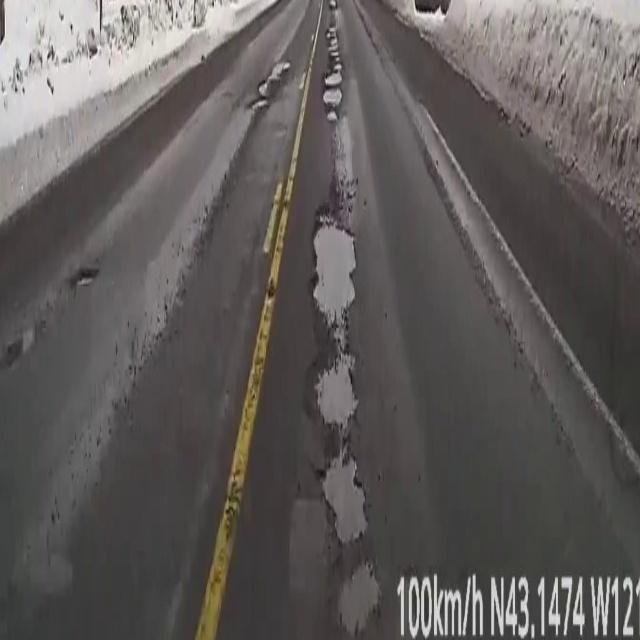pothole: (312, 321, 380, 534), (324, 0, 342, 124)
